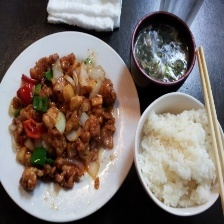rice: (141, 110, 224, 208)
